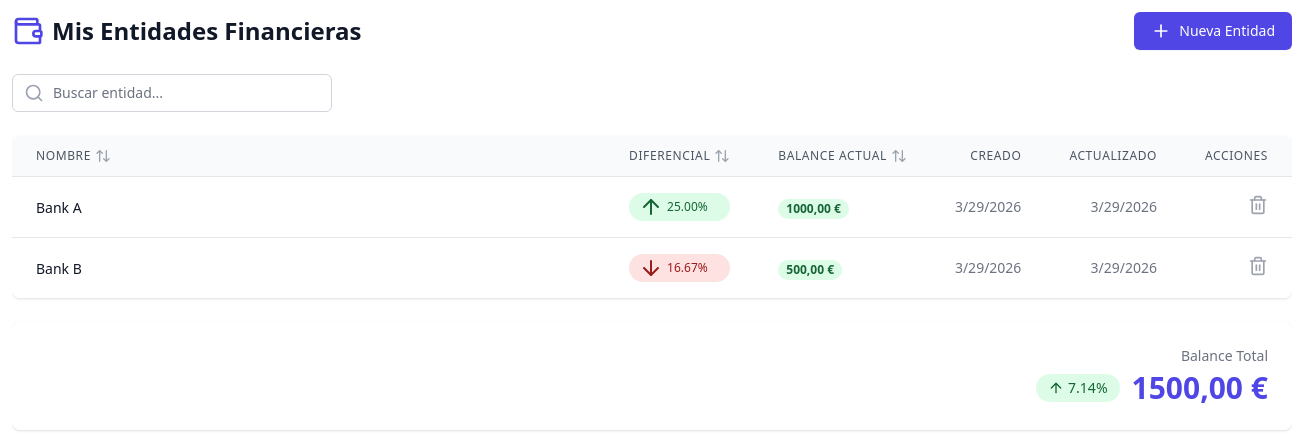
Test case: DashboardPage › USER Role › handles delete error
The width and height of the screenshot is (1292, 448).
Expected: the link "Bank A" is shown, x1=36 y1=198 x2=82 y2=217
Click the button titled "Eliminar entidad" in the row of "Bank A". click: [1258, 204]
box: x1=1248 y1=194 x2=1268 y2=214
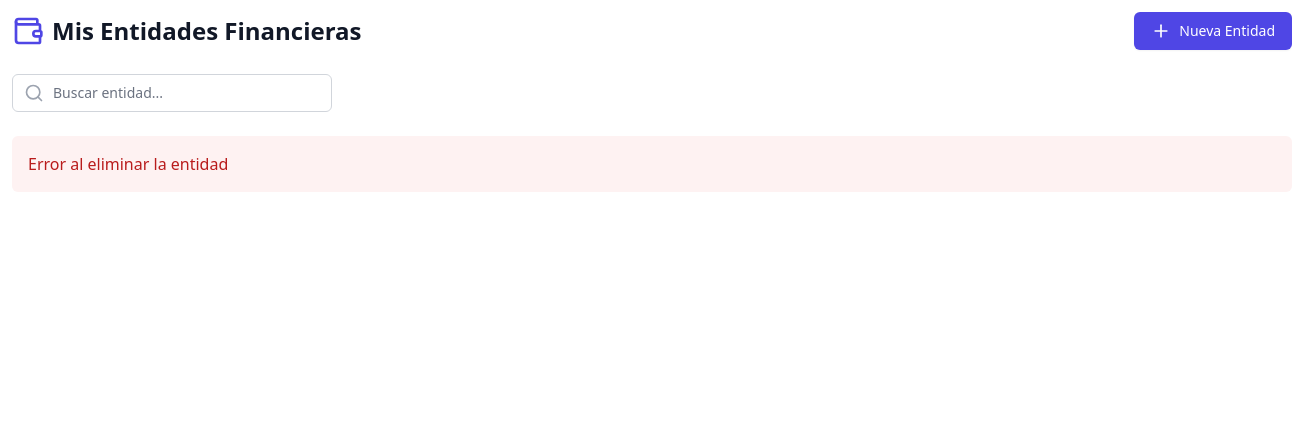
Expected: the text "Error al eliminar la entidad" is shown, x1=12 y1=136 x2=1291 y2=192
